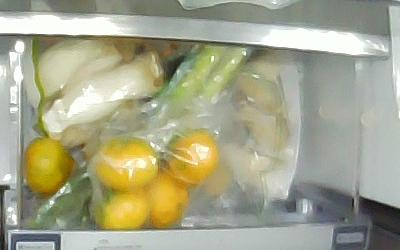tangerine: (23, 136, 74, 195)
tangerine_vinyl: (93, 135, 159, 190), (161, 126, 218, 189), (91, 186, 148, 228), (144, 178, 190, 228)
